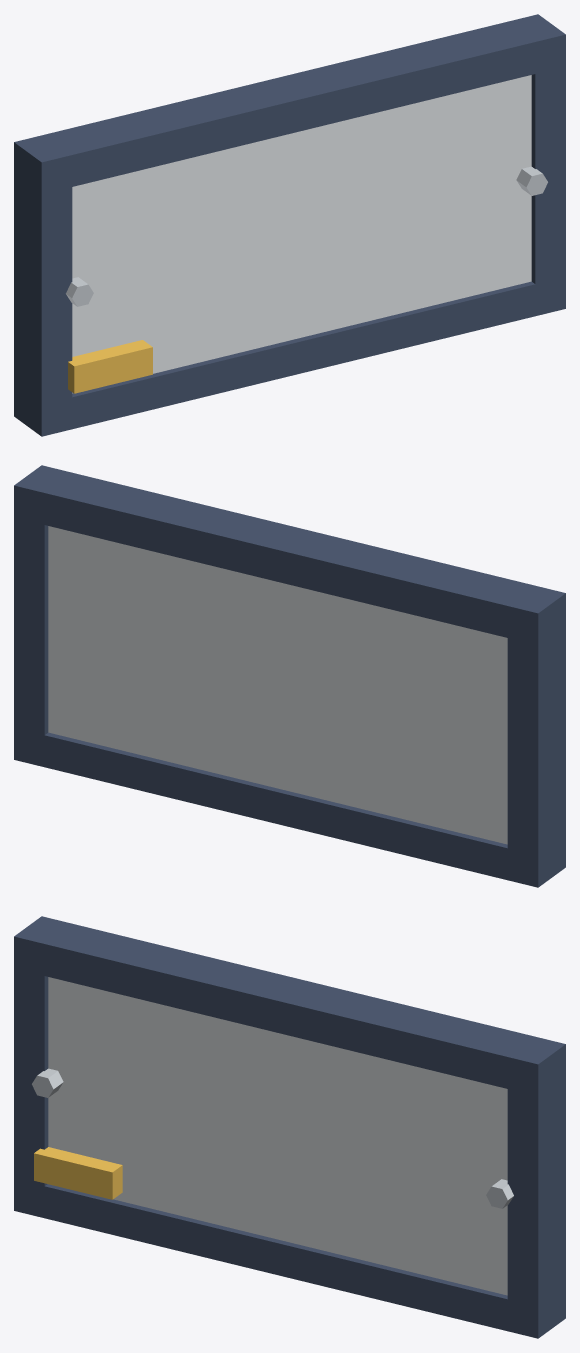
Rendered from wall_plaque.glb.
3 renders of one model, top to bottom at view 1: azimuth 30°, elevation 25°; view 2: azimuth 150°, elevation 25°; view 3: azimuth 330°, elevation 25°, orthographic.
Visible parts, largest first — view 1: DL017_WallPlaque_hull_offwhite, DL017_WallPlaque_graphite_navy, DL017_WallPlaque_amber_accent, DL017_WallPlaque_titanium; view 2: DL017_WallPlaque_hull_offwhite, DL017_WallPlaque_graphite_navy; view 3: DL017_WallPlaque_hull_offwhite, DL017_WallPlaque_graphite_navy, DL017_WallPlaque_amber_accent, DL017_WallPlaque_titanium.
Boxes of the visible parts, x1,y1,x2,y2 form: DL017_WallPlaque_hull_offwhite: (72,75,531,393); DL017_WallPlaque_graphite_navy: (14,14,565,436); DL017_WallPlaque_amber_accent: (68,340,152,393); DL017_WallPlaque_titanium: (66,166,547,306); DL017_WallPlaque_hull_offwhite: (48,526,507,844); DL017_WallPlaque_graphite_navy: (14,465,565,887); DL017_WallPlaque_hull_offwhite: (48,977,507,1295); DL017_WallPlaque_graphite_navy: (14,916,565,1338); DL017_WallPlaque_amber_accent: (34,1147,122,1199); DL017_WallPlaque_titanium: (32,1068,513,1208).
Size of the model in its own units: 1.2 by 0.6 by 0.135.
